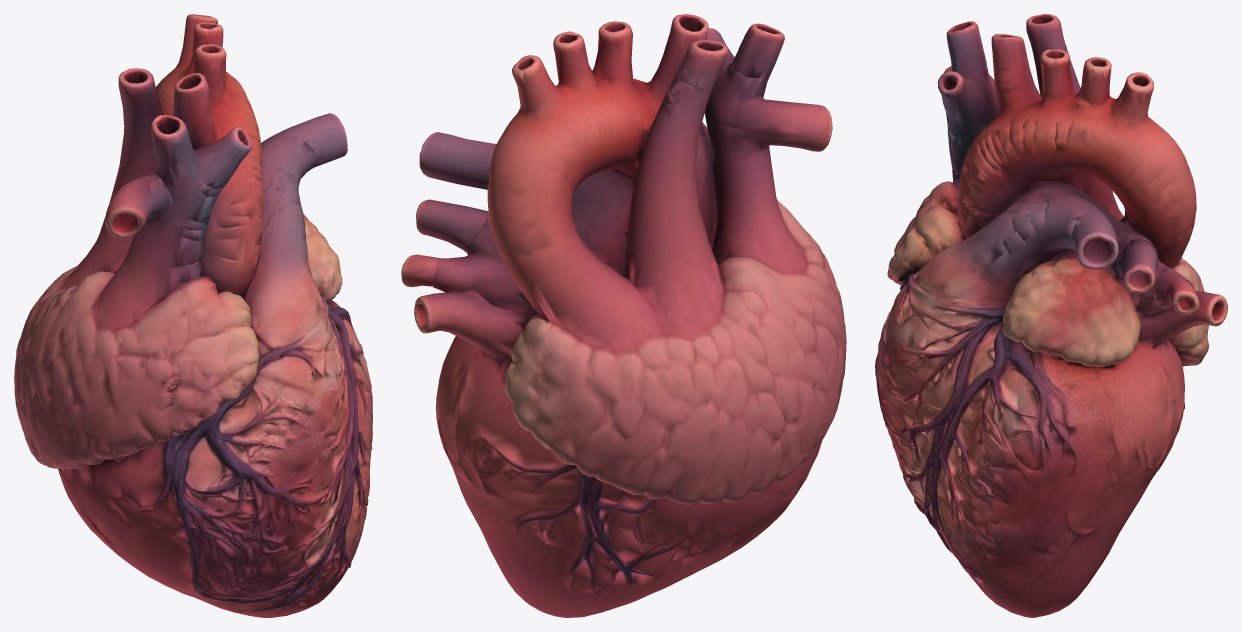
The model's file is heart_model.glb.
The picture shows the model from 3 angles, left to right: view 1: azimuth 30°, elevation 25°; view 2: azimuth 150°, elevation 25°; view 3: azimuth 270°, elevation 25°; orthographic projection. The views are drawn at different scales.
Visible parts, largest first — view 1: tripo_node_9c16954f-d29a-4a4b-baf4-ba02eda23201; view 2: tripo_node_9c16954f-d29a-4a4b-baf4-ba02eda23201; view 3: tripo_node_9c16954f-d29a-4a4b-baf4-ba02eda23201.
Part boxes in pixels (<box>): tripo_node_9c16954f-d29a-4a4b-baf4-ba02eda23201: <box>14,14,372,617</box>; tripo_node_9c16954f-d29a-4a4b-baf4-ba02eda23201: <box>401,14,846,617</box>; tripo_node_9c16954f-d29a-4a4b-baf4-ba02eda23201: <box>875,14,1227,617</box>.
Size of the model in its own units: 0.5966 by 0.98 by 0.5843.
Materials: 1 (1 with a texture image).
